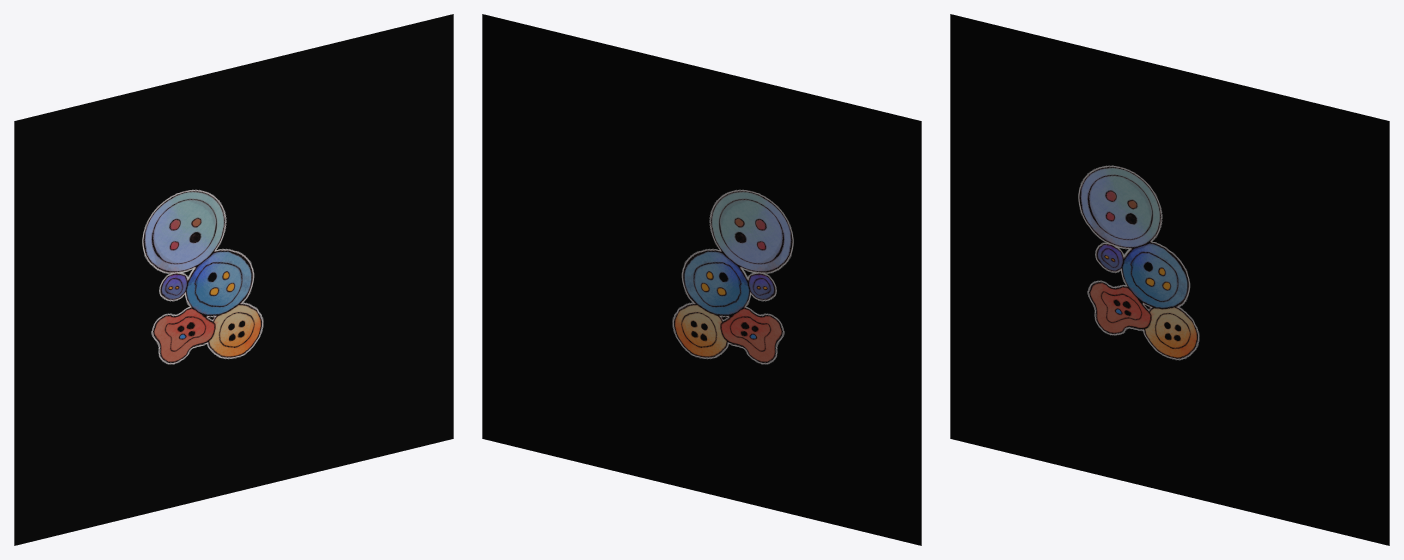
The model's file is 鈕扣_fixed.glb.
3 views of the same model, side by side, from view 1: azimuth 30°, elevation 25°; view 2: azimuth 150°, elevation 25°; view 3: azimuth 330°, elevation 25° (orthographic).
Visible parts, largest first — view 1: 平面; view 2: 平面; view 3: 平面.
Part boxes in pixels (x1,y1,x2,y2): 平面: (14, 14, 453, 545); 平面: (482, 14, 921, 545); 平面: (950, 14, 1389, 545).
Size of the model in its own units: 1.08 by 1 by 5.71e-07.
Materials: 1 (1 with a texture image).
